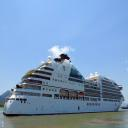cruises: (3, 53, 126, 121)
